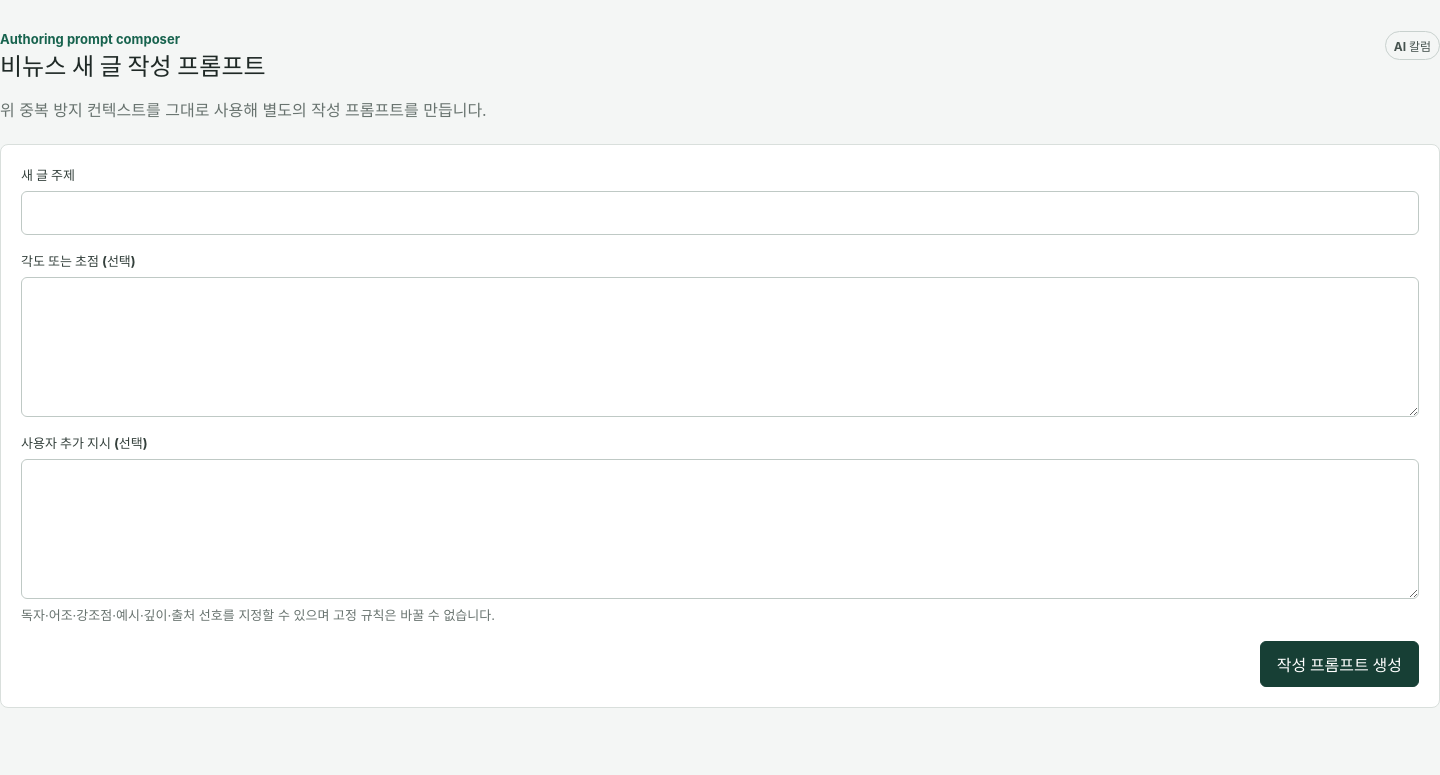
Test: NonNewsPromptComposer › allows zero-context generation with warning state
Type "AI 에이전트 입문" into the field labelled "새 글 주제".
click(720, 213); type("AI 에이전트 입문")  # box [21,191,1419,235]
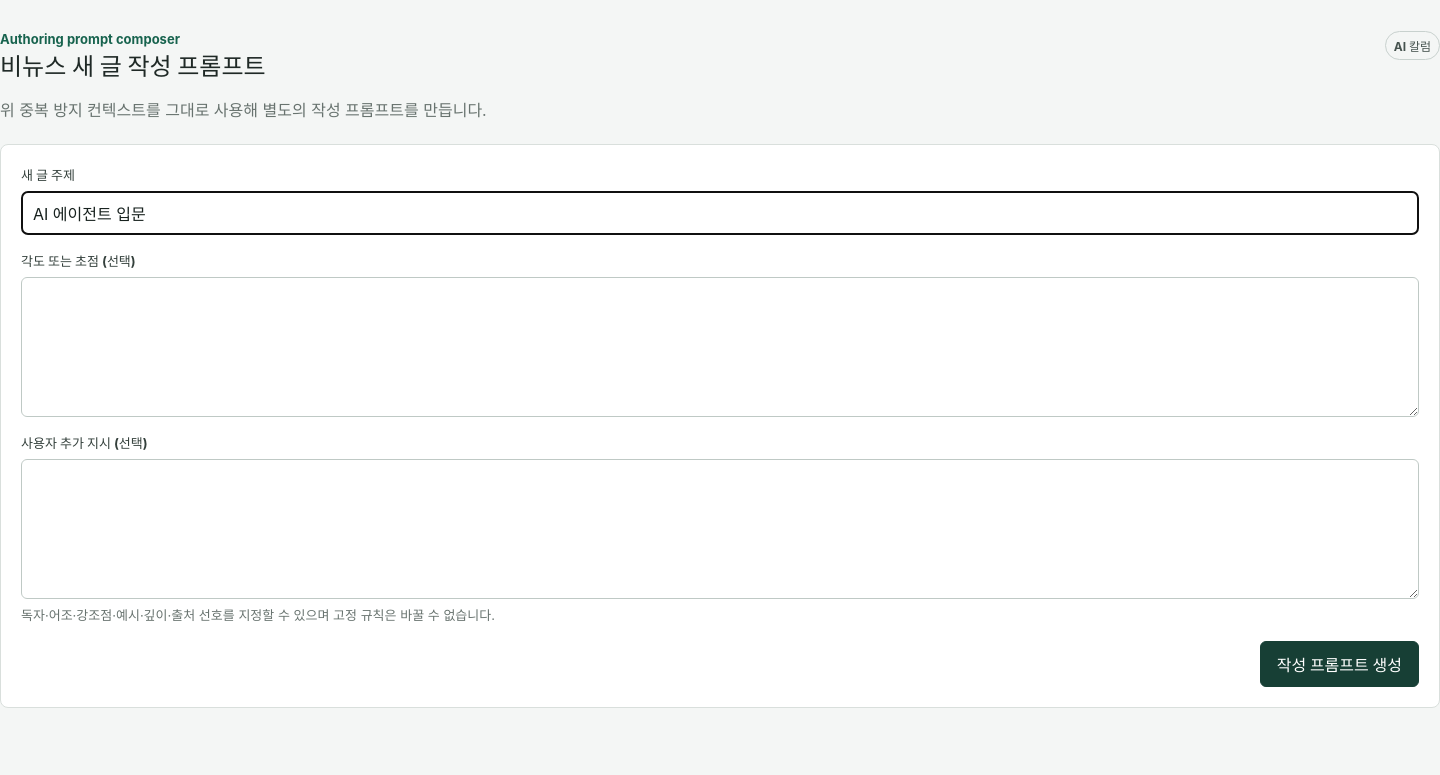
Click the button "작성 프롬프트 생성".
click(1339, 664)  # box [1260,641,1419,687]
(page scrolled)
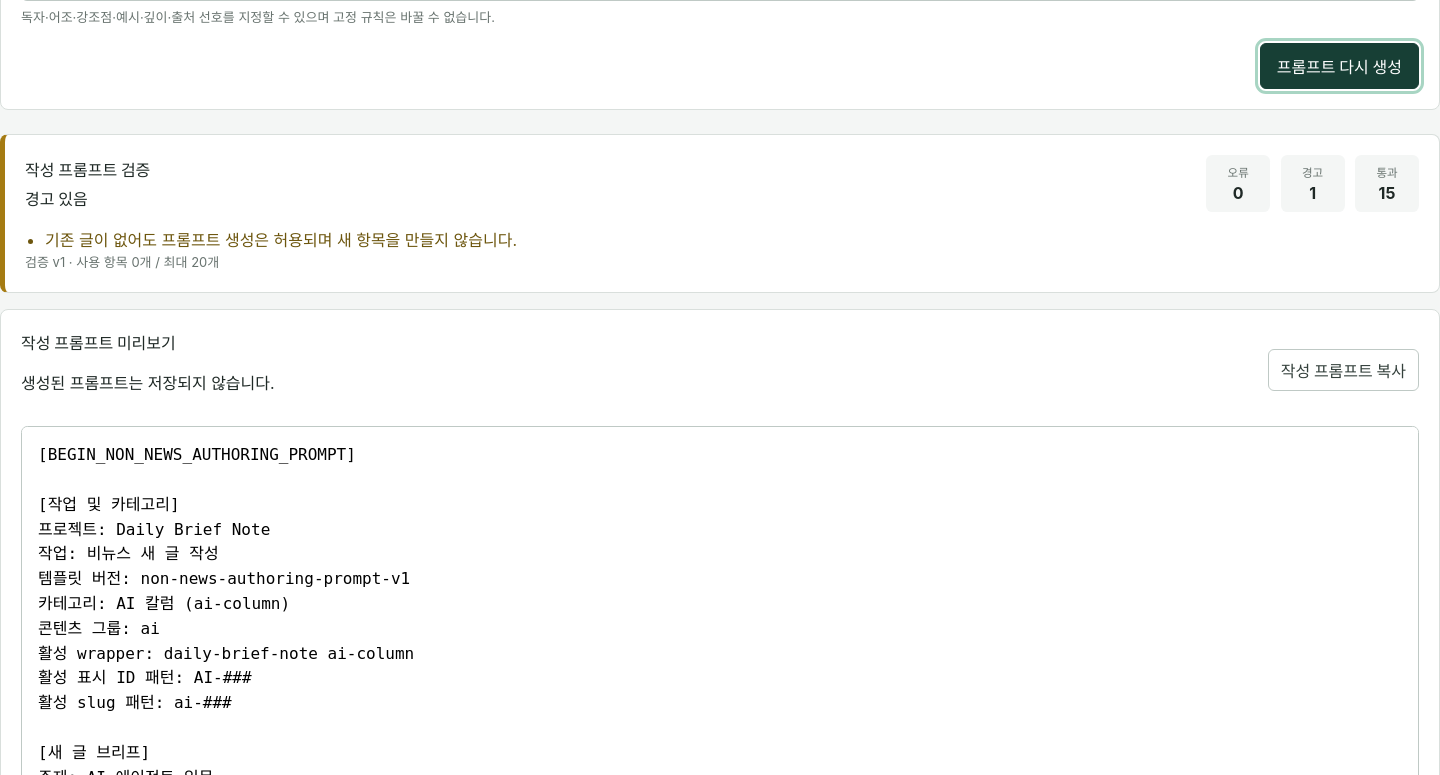
Expected: the message reads "경고 있음", [25,189,88,209]
Expected: the list item "기존 글이 없어도 프롬프트 생성은 허용되며 새 항목을 만들지 않습니다." is shown, [45,230,517,250]
Expected: the button "작성 프롬프트 복사" is enabled, [1268,349,1419,391]
